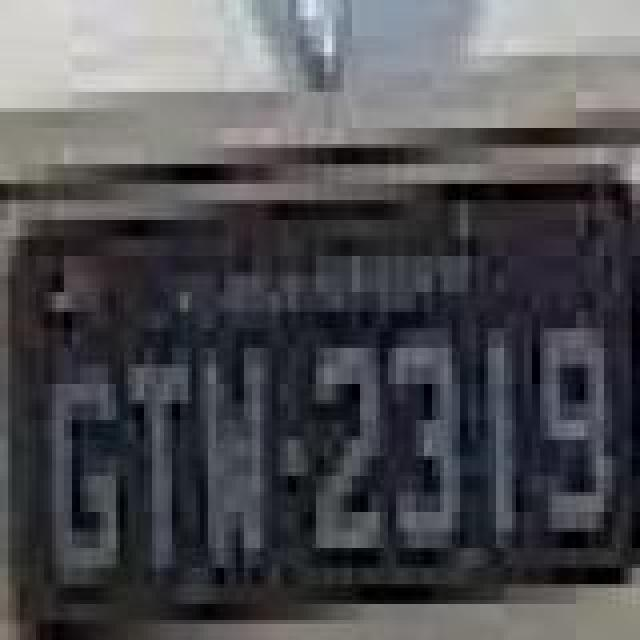1: (486, 320, 522, 560)
2: (306, 338, 390, 558)
3: (386, 338, 470, 558)
9: (534, 322, 618, 542)
G: (46, 356, 130, 596)
T: (124, 354, 196, 574)
W: (196, 336, 268, 592)
